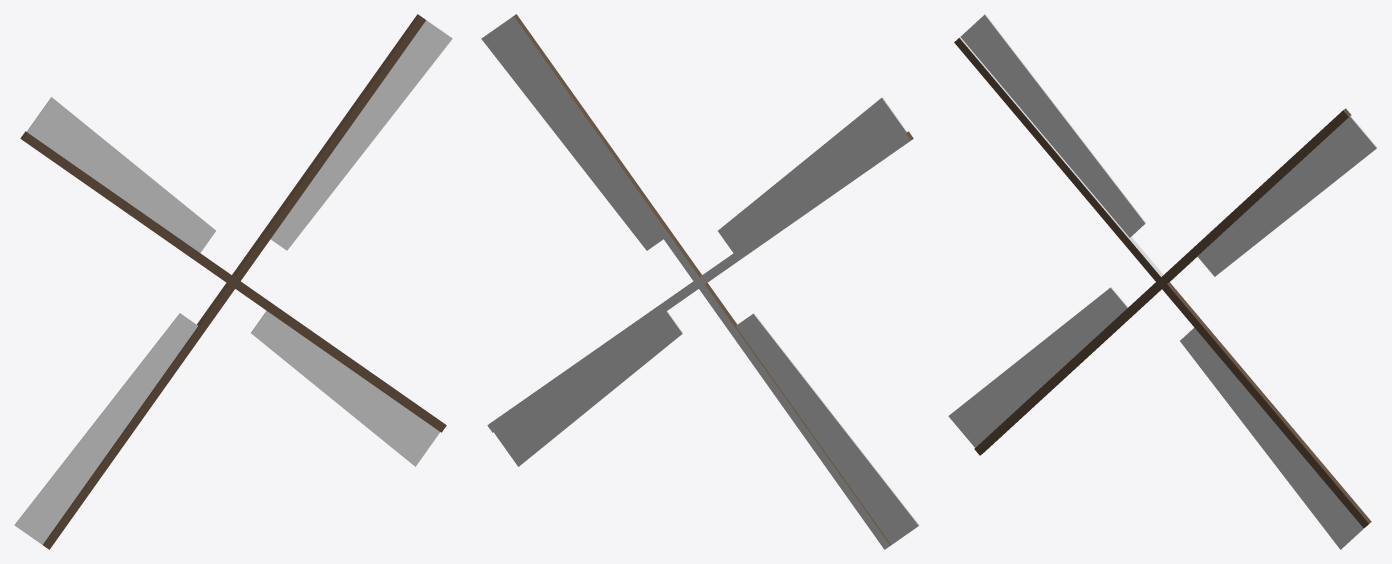
Rendered from Windmill_Blades_01.fbx.
3 views of the same model, side by side, from view 1: azimuth 30°, elevation 25°; view 2: azimuth 150°, elevation 25°; view 3: azimuth 330°, elevation 25° (orthographic). The views are drawn at different scales.
Visible parts, largest first — view 1: Windmill_Blades_01; view 2: Windmill_Blades_01; view 3: Windmill_Blades_01.
Part boxes in pixels (bbox=[...]): Windmill_Blades_01: bbox=[14, 14, 452, 549]; Windmill_Blades_01: bbox=[481, 14, 919, 549]; Windmill_Blades_01: bbox=[948, 14, 1377, 549].
Bounding box in the file's own units: 396 × 396 × 4.4.
